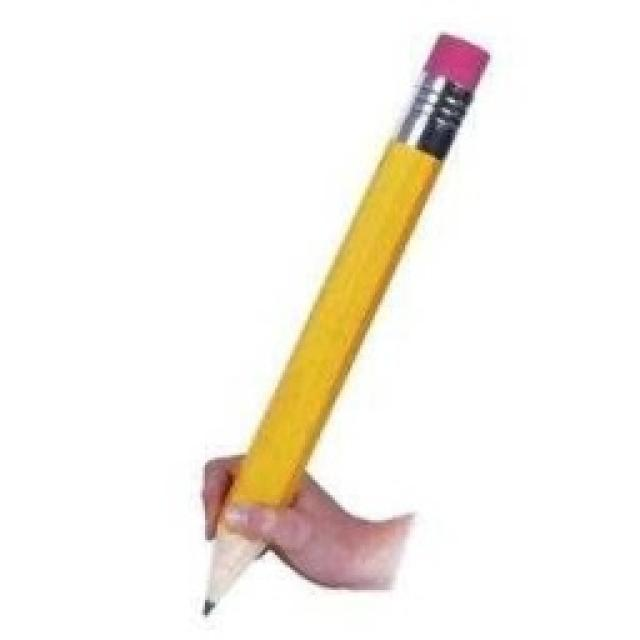pencil: (193, 28, 495, 618)
